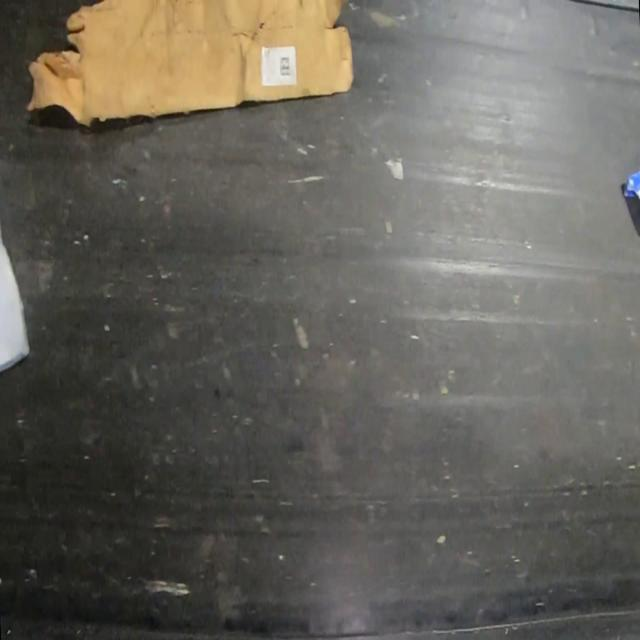cardboard: (26, 0, 354, 128)
soft_plastic: (0, 236, 30, 372)
